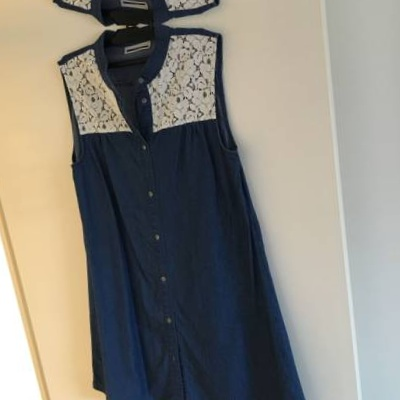Dress: (26, 22, 322, 400), (0, 0, 291, 25)
